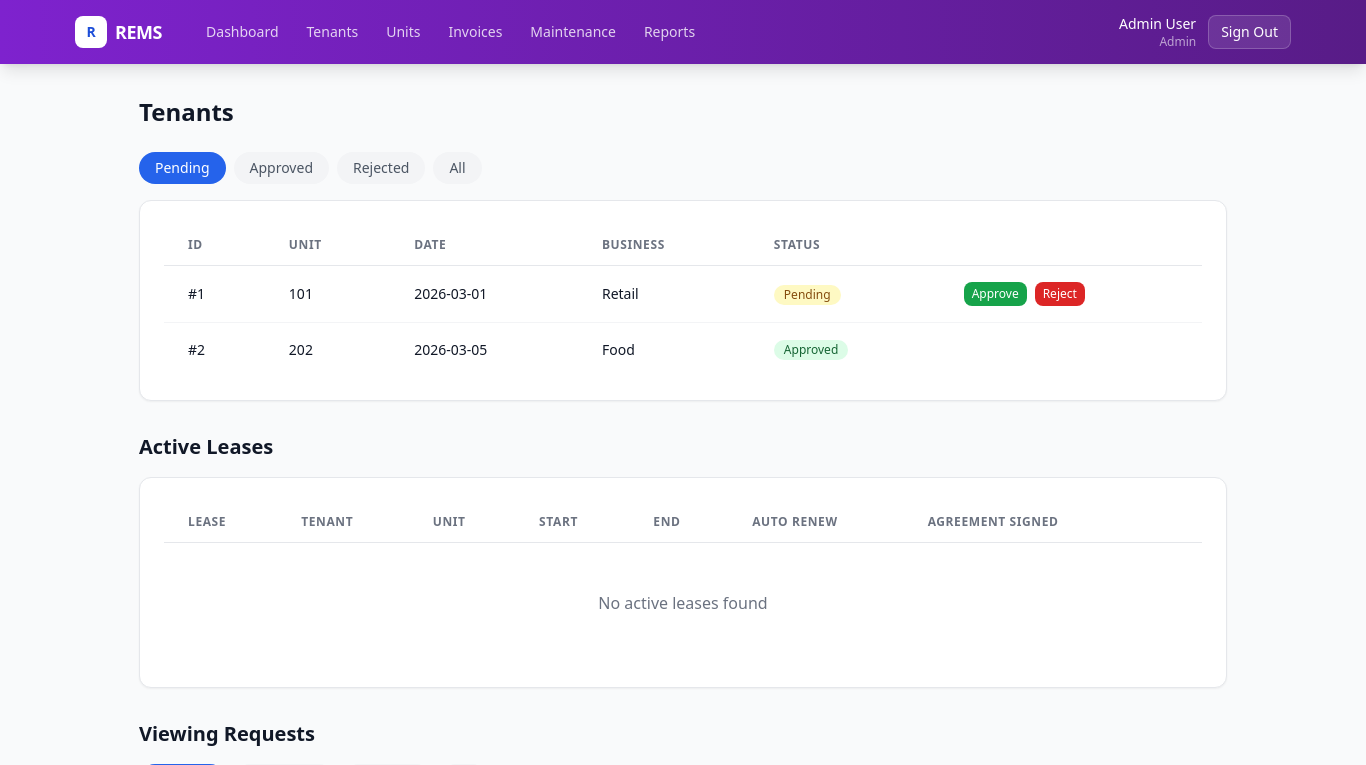
Scenario: TC-04/TC-25: Applications List page (clerk) › opens approve modal with lease details form when Approve is clicked
Click the button "Approve": (995, 294) top-left (964, 282), bottom-right (1027, 306)
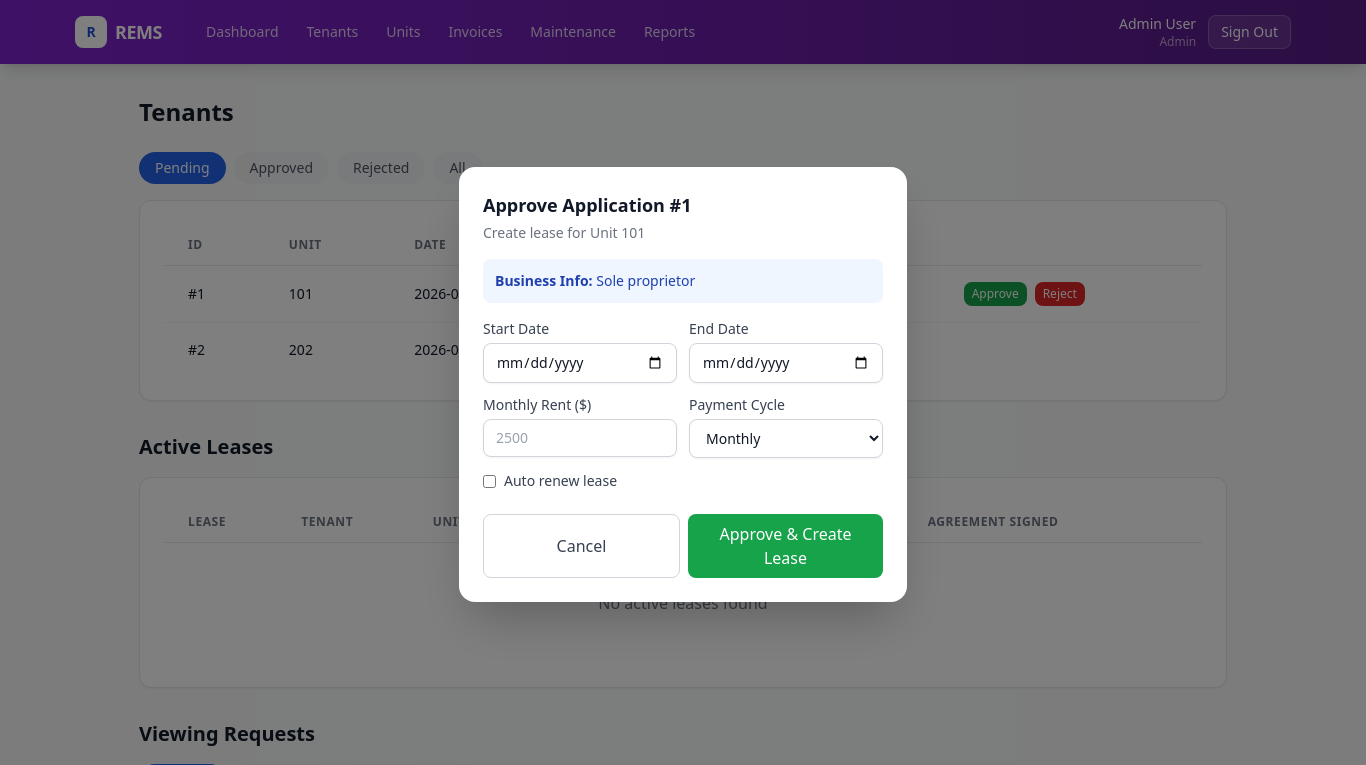
Expected: the heading "Approve Application #1" is shown, top-left (483, 192), bottom-right (692, 216)
Expected: the button "Approve & Create Lease" is shown, top-left (688, 514), bottom-right (883, 578)
